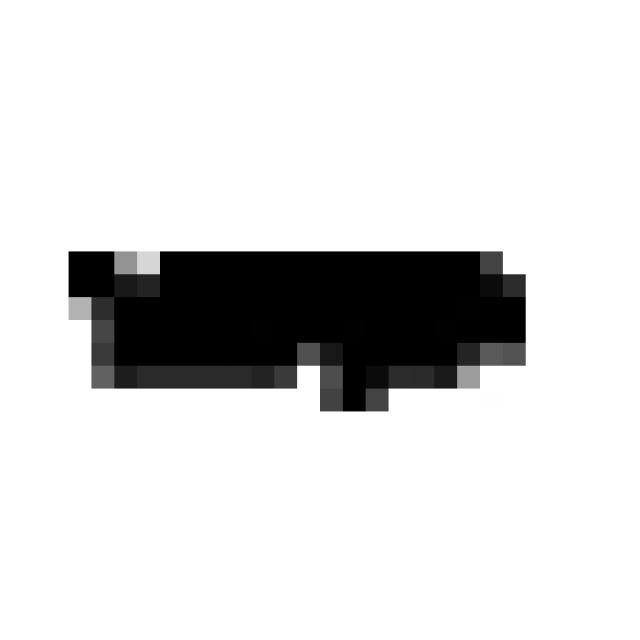0 -zero-: (46, 224, 543, 426)
